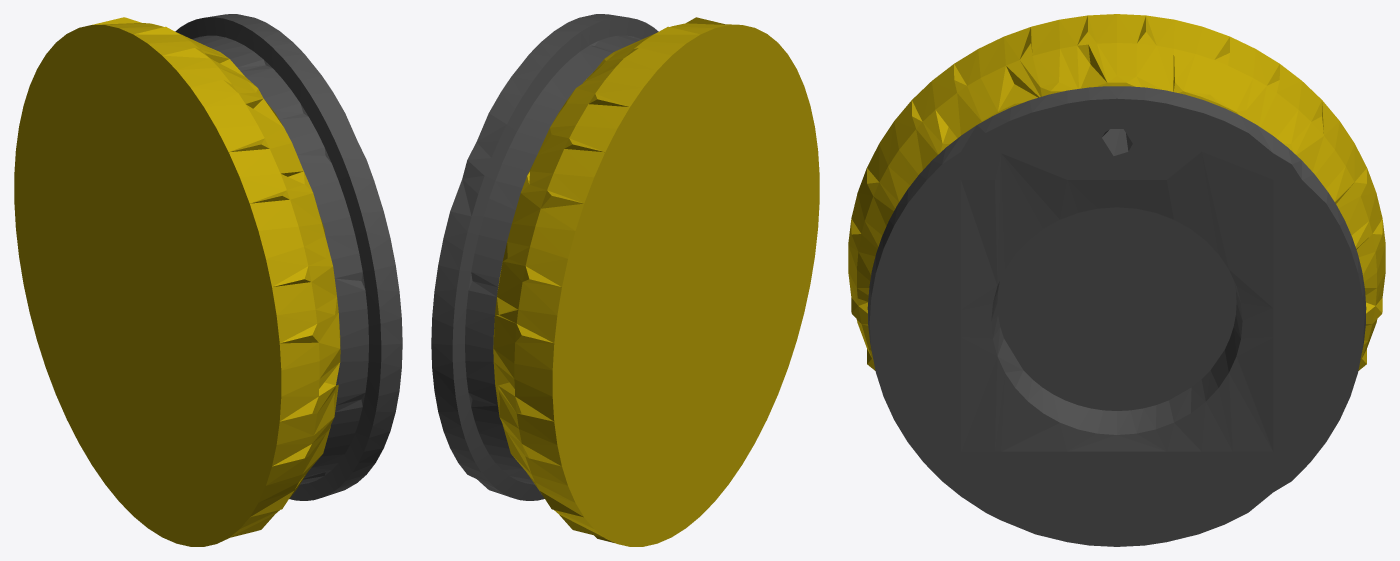
The picture shows the model from 3 angles, left to right: view 1: azimuth 30°, elevation 25°; view 2: azimuth 150°, elevation 25°; view 3: azimuth 270°, elevation 25°; orthographic projection.
Visible parts, largest first — view 1: Mesh; view 2: Mesh; view 3: Mesh.
Part boxes in pixels (box(x1,y1,x2,y2)): Mesh: box(14, 14, 402, 546); Mesh: box(431, 14, 819, 546); Mesh: box(848, 14, 1385, 546).
Size of the model in its own units: 0.0459 by 0.1607 by 0.1609.
